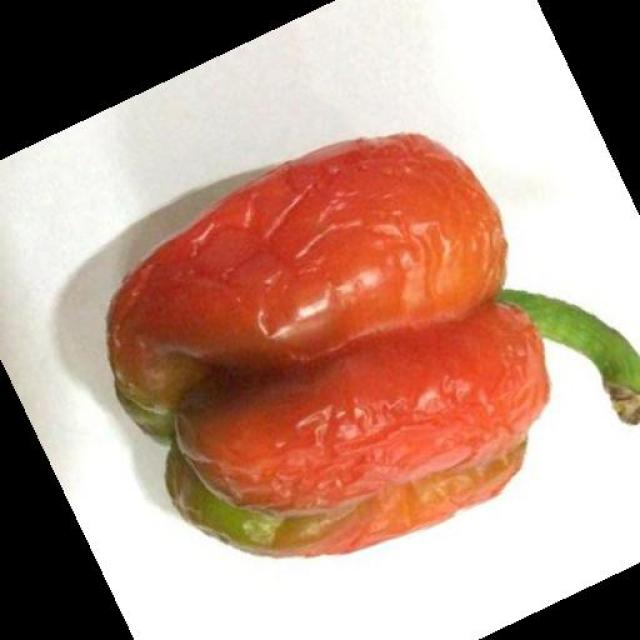Stale_Capsicum: (116, 155, 640, 552)
